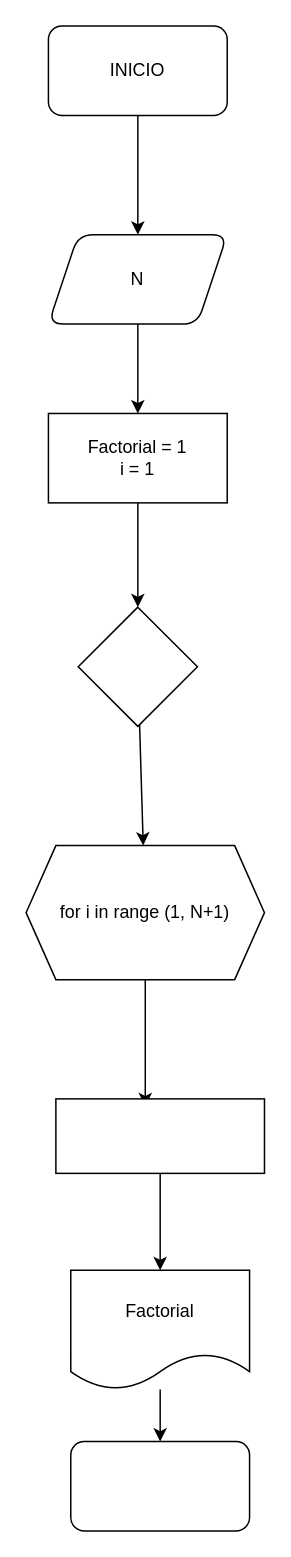
The diagram is 291 pixels wide and 1557 high, and some of its shapes have lost their labels. The centre of each missing label's shape, as x and y in pixels:
Factorial = Factorial * i: point 159,1135
FIN: point 159,1485
N != 0: point 137,666
